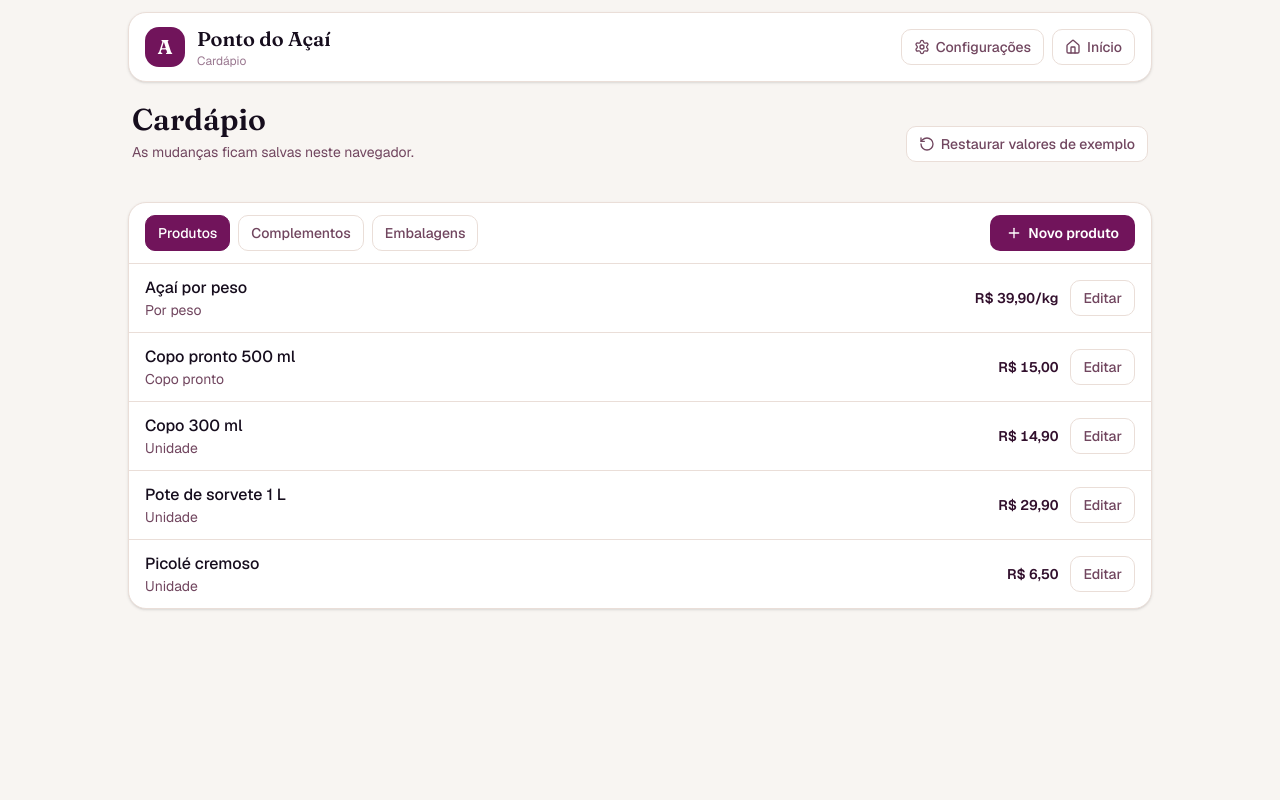
Scenario: CardapioEditor › reopens the panel clean after a failed save
Click the button "Editar" next to "R$ 14,90": (1103, 436) [1070,418,1135,454]
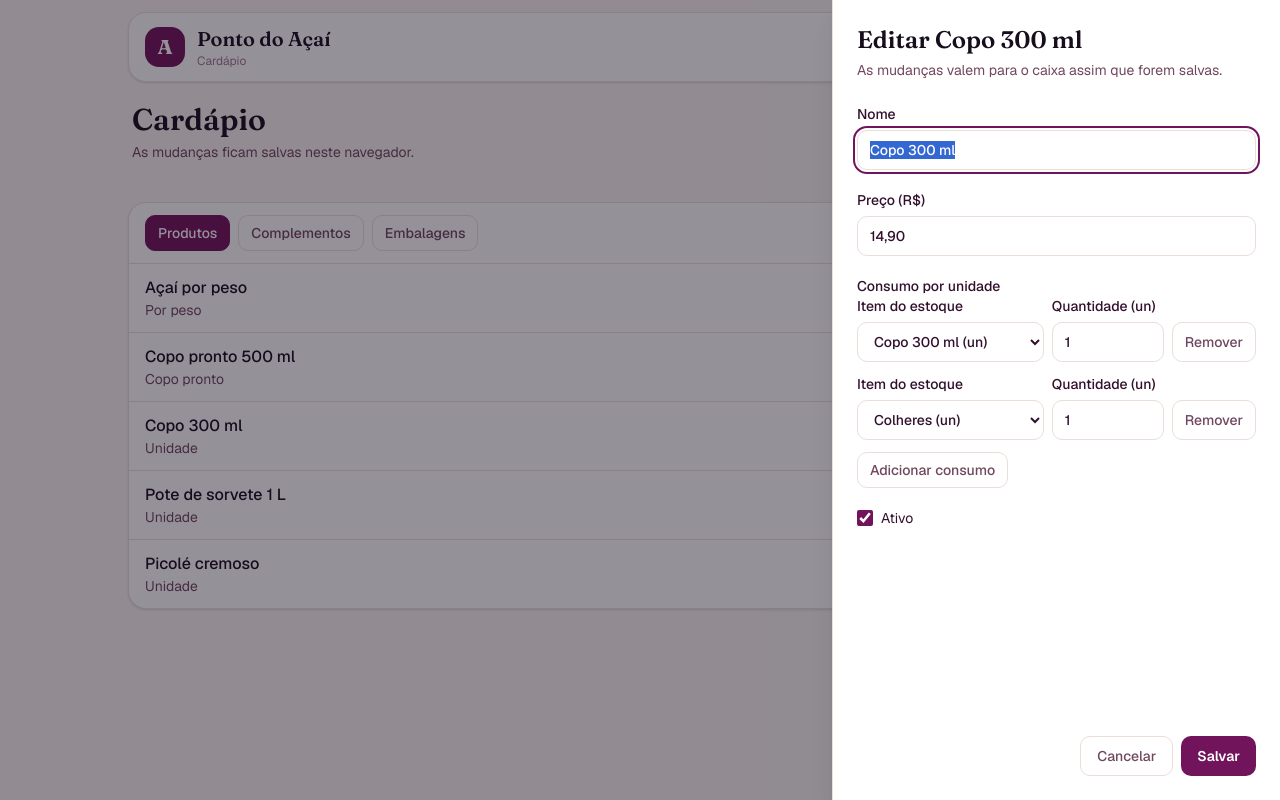
Replace the text in the field labelled "Preço (R$)" with "0": (1056, 236) [857,216,1256,256]
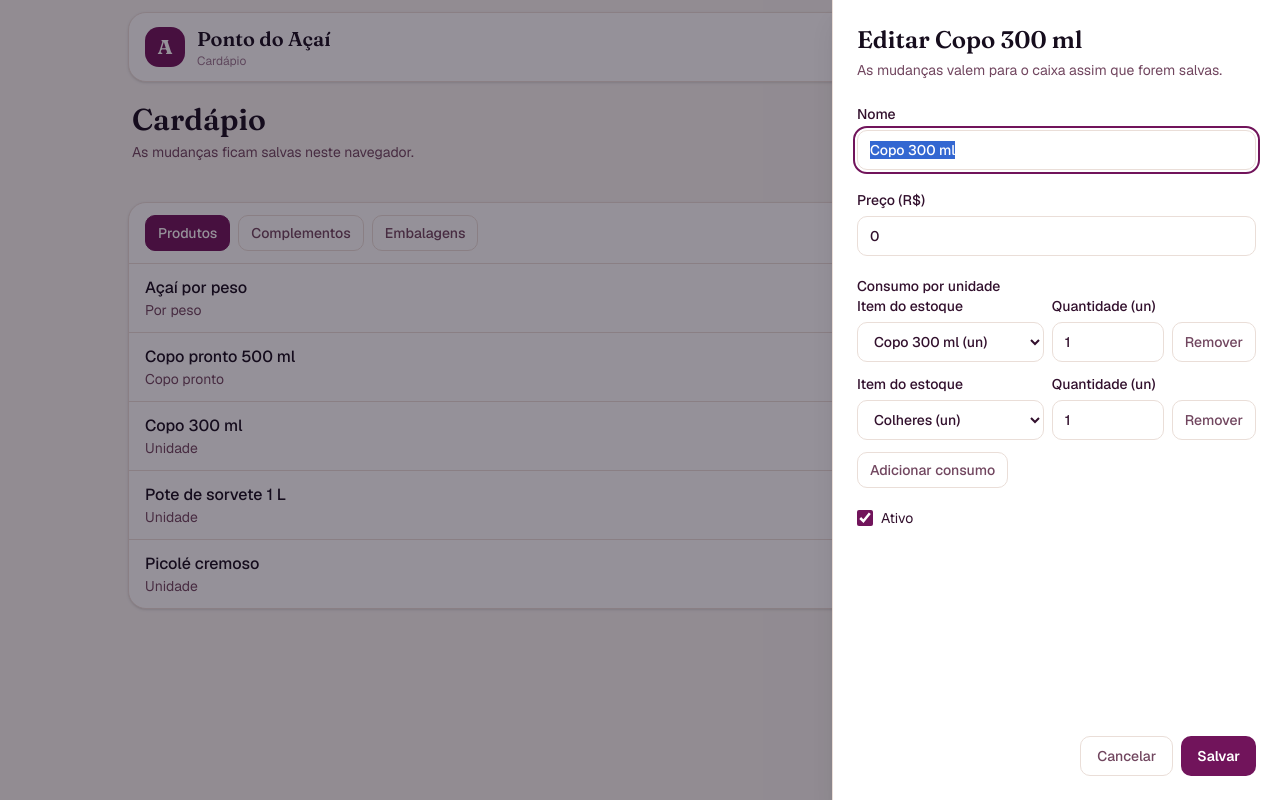
Click the button "Salvar": (1219, 756) [1181,736,1256,776]
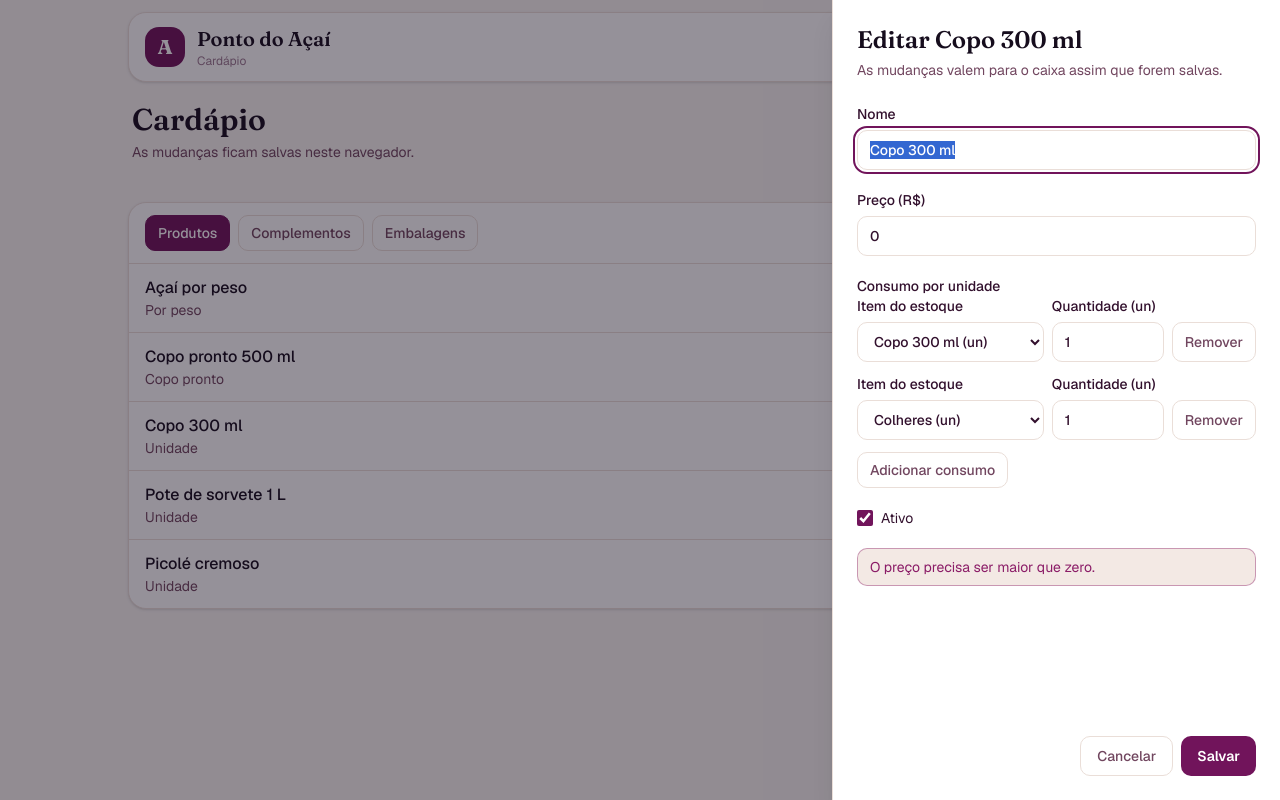
Click the button "Cancelar": (1127, 756) [1080,736,1173,776]
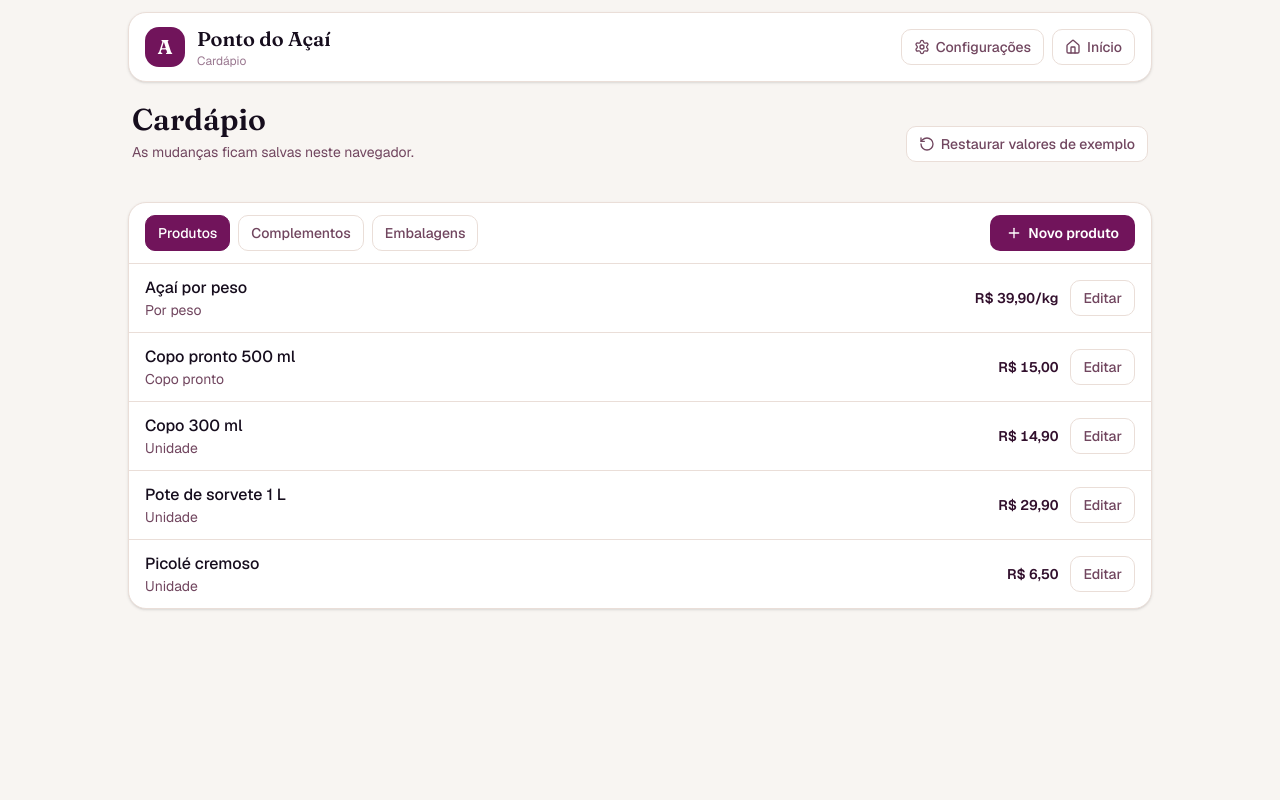
Click the button "Editar" next to "R$ 14,90": (1103, 436) [1070,418,1135,454]
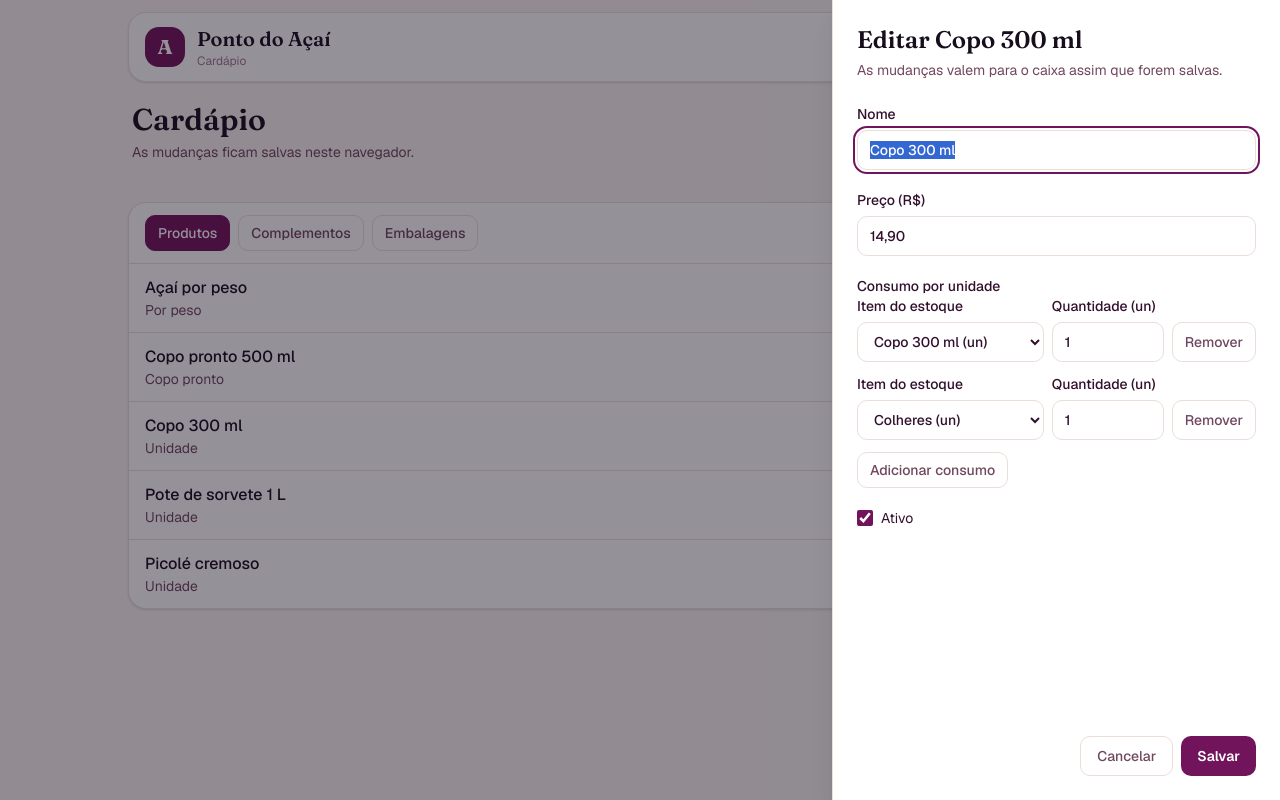
Expected: the list item "O preço precisa ser maior que zero." is not shown
Expected: the field labelled "Preço (R$)" holds "14,90", [857,216,1256,256]
